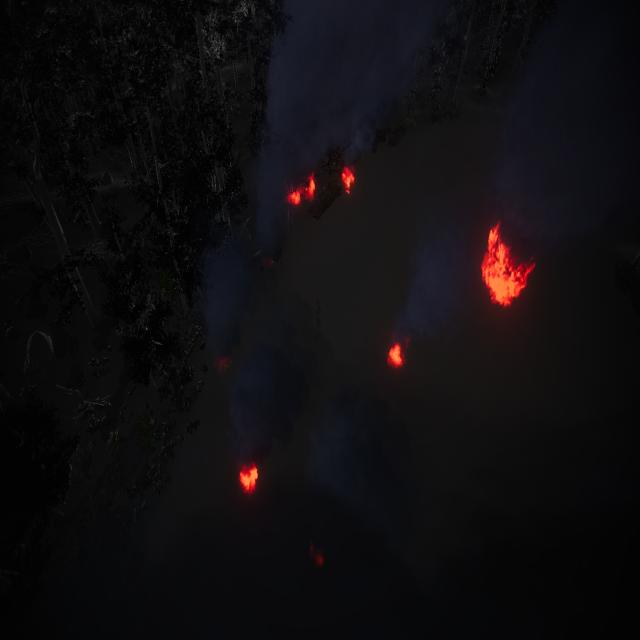Human: (310, 293, 330, 353)
